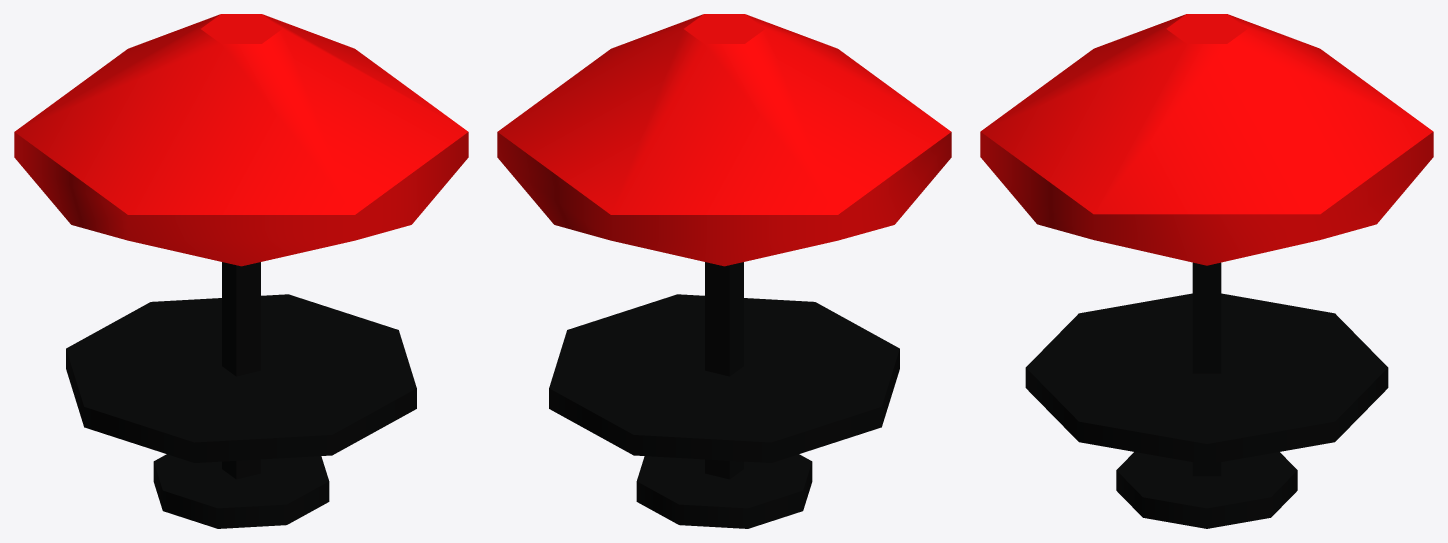
Rendered from detail-parasol-b.glb.
3 renders of one model, left to right at view 1: azimuth 30°, elevation 25°; view 2: azimuth 150°, elevation 25°; view 3: azimuth 270°, elevation 25°, orthographic.
Visible parts, largest first — view 1: detail-parasol-b; view 2: detail-parasol-b; view 3: detail-parasol-b.
Part boxes in pixels (bbox=[...]): detail-parasol-b: bbox=[14, 14, 468, 528]; detail-parasol-b: bbox=[497, 14, 951, 528]; detail-parasol-b: bbox=[980, 14, 1433, 528].
Size of the model in its own units: 0.3465 by 0.45 by 0.4001.
Materials: 1 (1 with a texture image).
